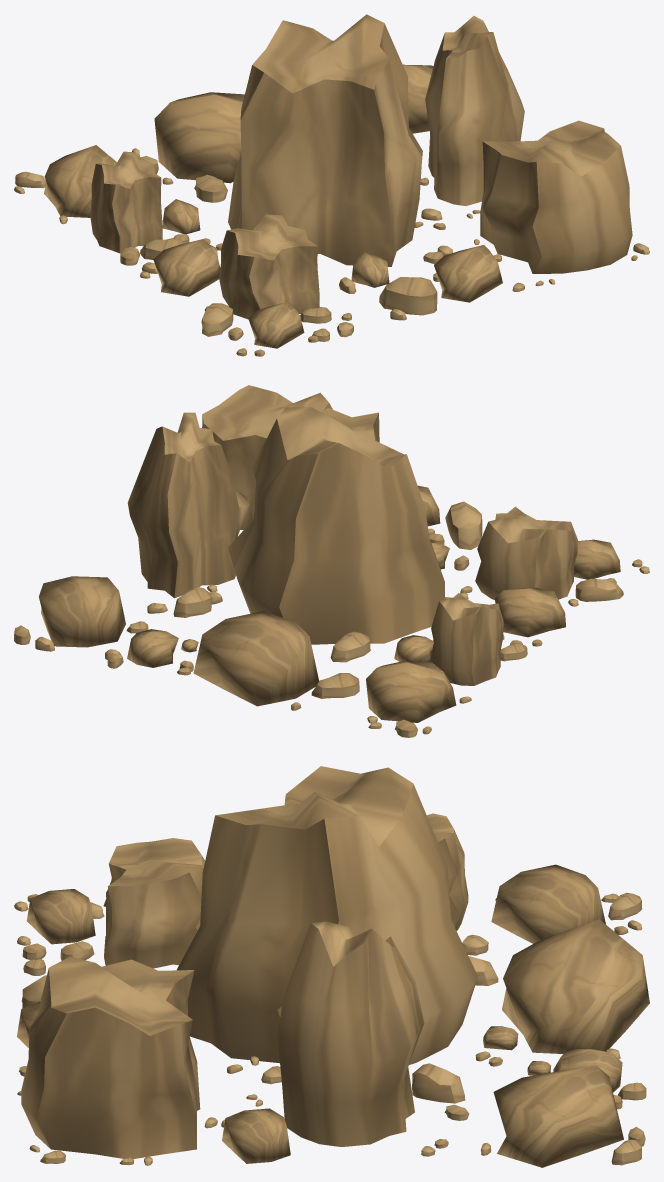
The model's file is m_env_roche_3_ok.FBX.
3 renders of one model, top to bottom at view 1: azimuth 30°, elevation 25°; view 2: azimuth 150°, elevation 25°; view 3: azimuth 270°, elevation 25°, orthographic. The views are drawn at different scales.
Parts seen in each view (by area): view 1: Box014; view 2: Box014; view 3: Box014.
Boxes of the visible parts, bbox=[...] form: Box014: bbox=[14, 14, 649, 356]; Box014: bbox=[14, 385, 649, 737]; Box014: bbox=[14, 766, 649, 1167].
Bounding box in the file's own units: 298 × 296 × 131.
